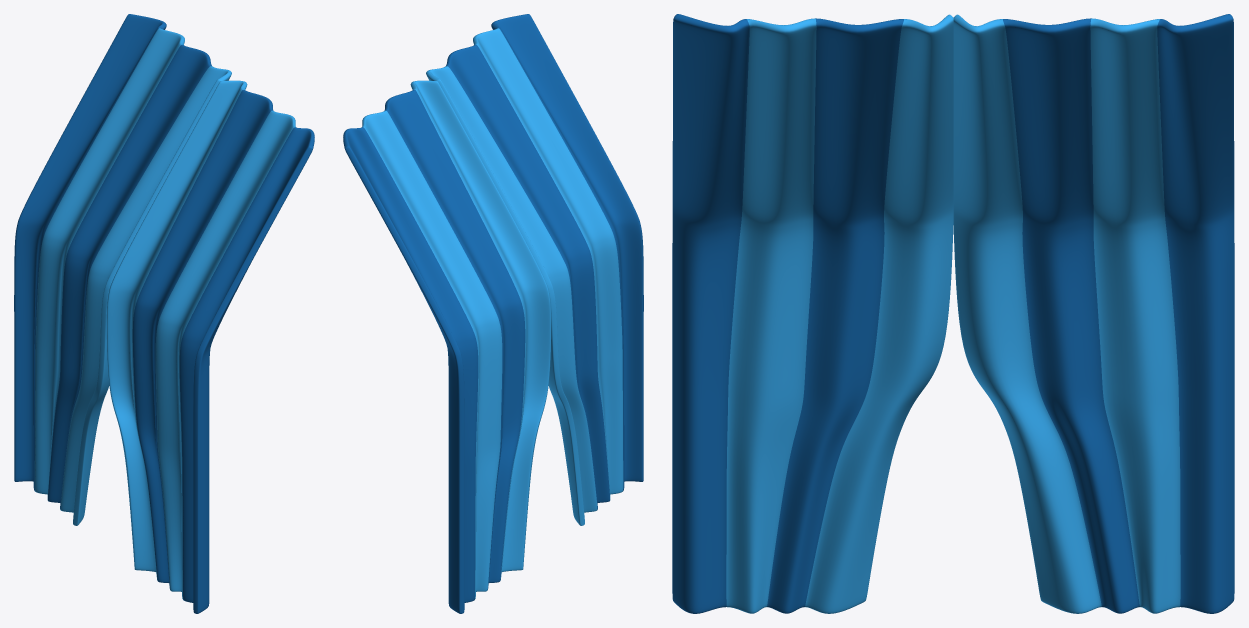
File: BGEnviromentCircoCortinaAberta.fbx
3 renders of one model, left to right at view 1: azimuth 30°, elevation 25°; view 2: azimuth 150°, elevation 25°; view 3: azimuth 270°, elevation 25°, orthographic. The views are drawn at different scales.
Visible parts, largest first — view 1: Plane.001, Plane.005; view 2: Plane.005, Plane.001; view 3: Plane.001, Plane.005.
Part boxes in pixels (x1,y1,x2,y2): Plane.001: (106,80,314,613); Plane.005: (14,14,231,525); Plane.005: (343,80,551,613); Plane.001: (426,14,643,525); Plane.001: (672,14,953,613); Plane.005: (953,14,1234,613).
Bounding box in the file's own units: 2209 × 6869 × 5198.
Materials: 1 (1 with a texture image).
